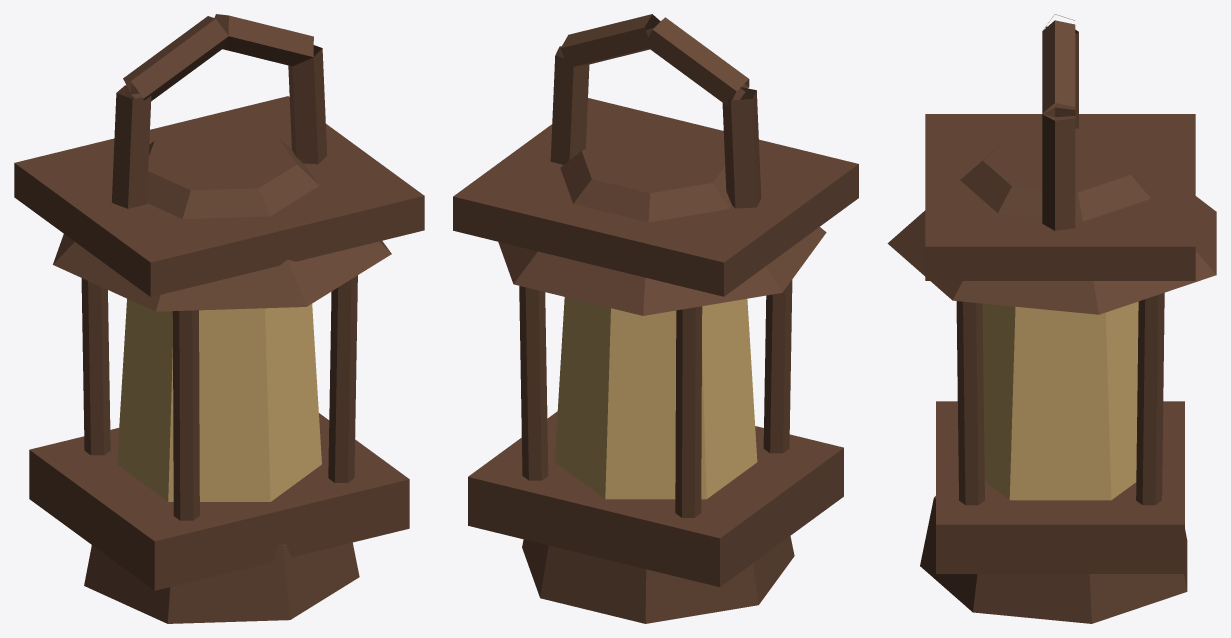
3 renders of one model, left to right at view 1: azimuth 30°, elevation 25°; view 2: azimuth 150°, elevation 25°; view 3: azimuth 270°, elevation 25°, orthographic.
Parts seen in each view (by area): view 1: C14_方框木灯; view 2: C14_方框木灯; view 3: C14_方框木灯.
Part boxes in pixels (box(x1,y1,x2,y2)): C14_方框木灯: box(14, 14, 424, 623); C14_方框木灯: box(453, 14, 858, 623); C14_方框木灯: box(887, 14, 1216, 623).
Bounding box in the file's own units: 0.312 × 0.5598 × 0.3042.
